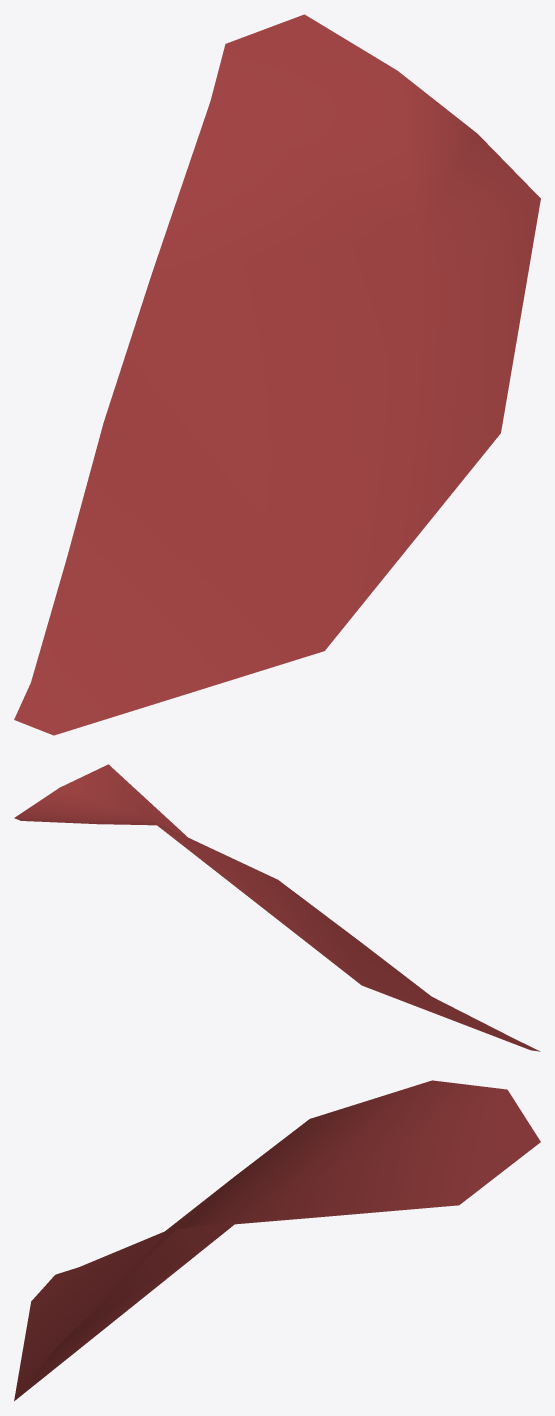
File: levator-scapulae-ol.glb
The picture shows the model from 3 angles, top to bottom: view 1: azimuth 30°, elevation 25°; view 2: azimuth 150°, elevation 25°; view 3: azimuth 270°, elevation 25°; orthographic projection. The views are drawn at different scales.
Parts seen in each view (by area): view 1: Levator scapulae.ol; view 2: Levator scapulae.ol; view 3: Levator scapulae.ol.
Part boxes in pixels (box(x1,y1,x2,y2)): Levator scapulae.ol: box(14, 14, 540, 735); Levator scapulae.ol: box(14, 764, 540, 1051); Levator scapulae.ol: box(14, 1080, 540, 1401).
Size of the model in its own units: 0.00341 by 0.00228 by 0.00265.
